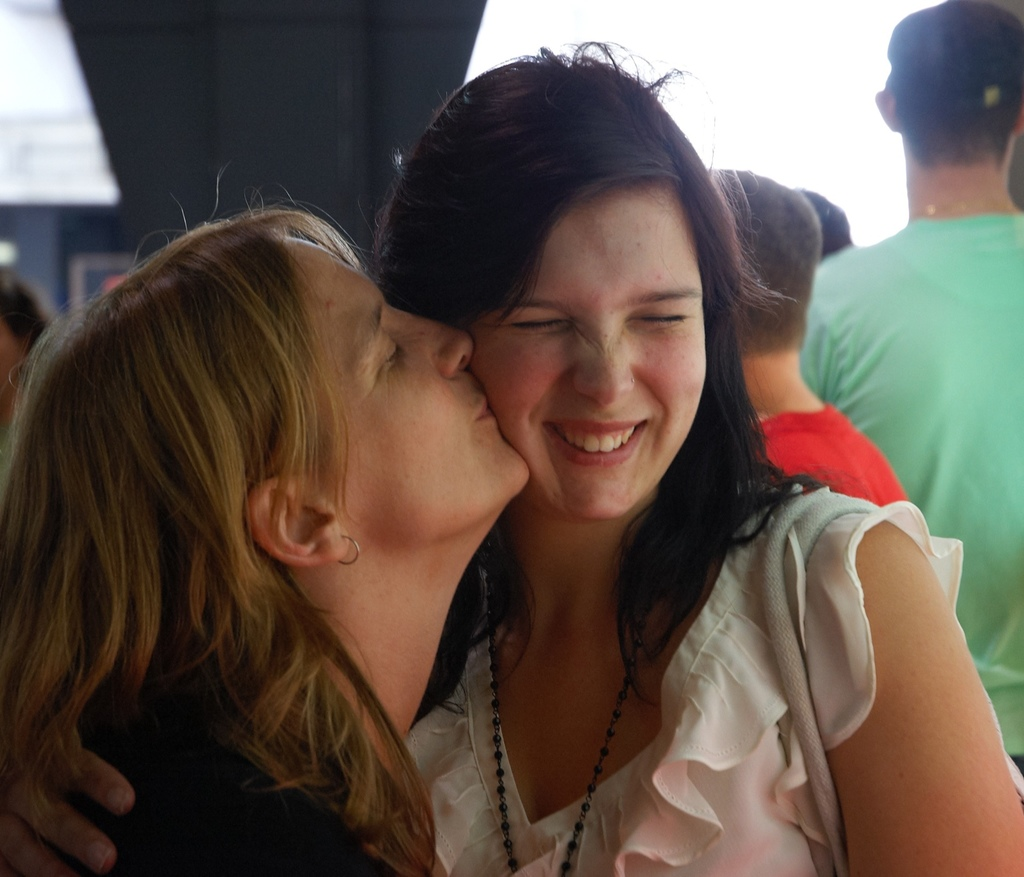person: (0, 262, 55, 584)
